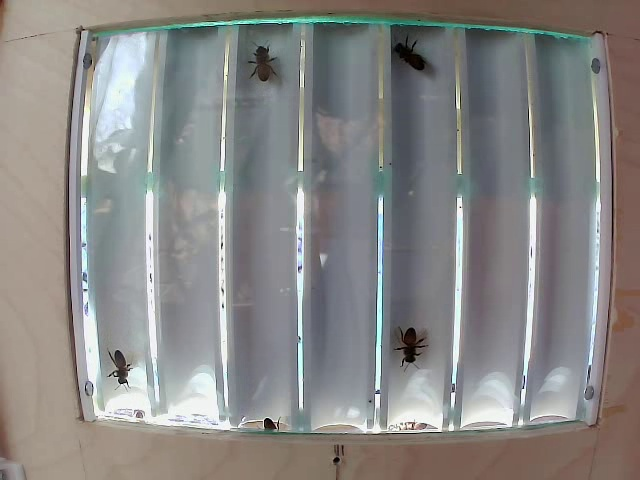bee: (385, 323, 427, 370), (387, 29, 429, 74), (240, 42, 280, 81)
